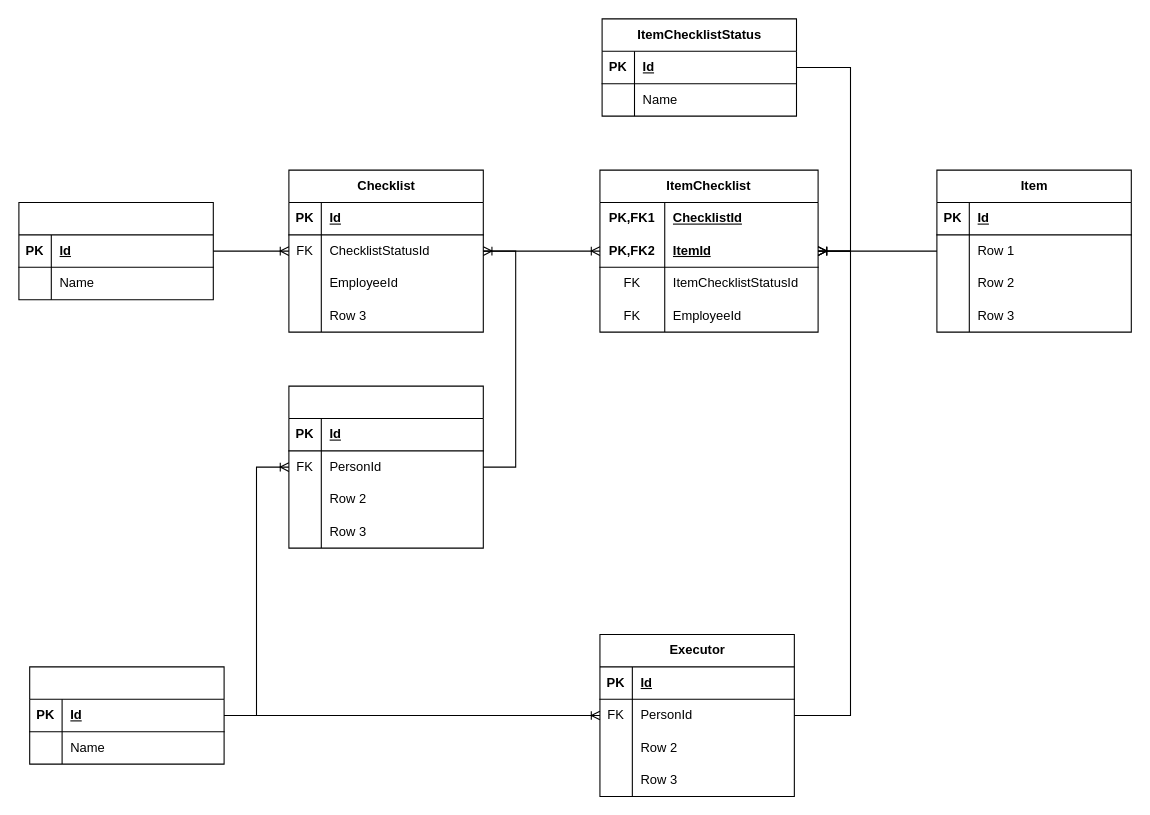
The diagram is 1150 pixels wide and 815 high, and some of its shapes have lost their labels. The box of each missing label's shape, as (x1, y1, x2, y2) in pixels:
ChecklistStatus: (18, 201, 213, 300)
Person: (29, 666, 224, 764)
Supervisor: (288, 385, 483, 548)
